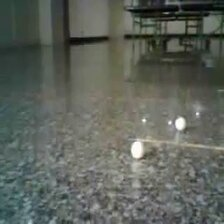w: (130, 140, 144, 159), (174, 116, 186, 132)
